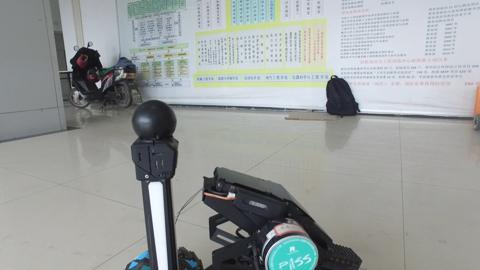bag: (316, 61, 377, 125)
chariot: (113, 101, 367, 270)
